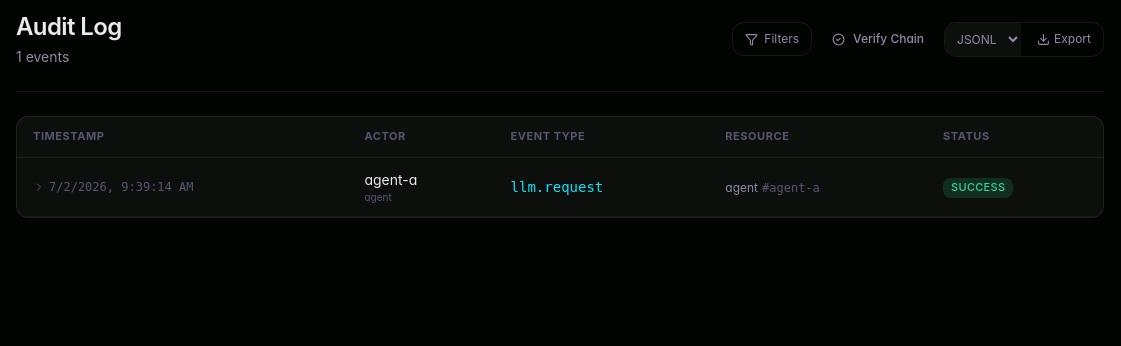
Test: AuditPage — streaming export › expands event row to show payload JSON
The width and height of the screenshot is (1121, 346).
Click the text "llm.request" at {"x": 557, "y": 187}, box [511, 179, 603, 195]
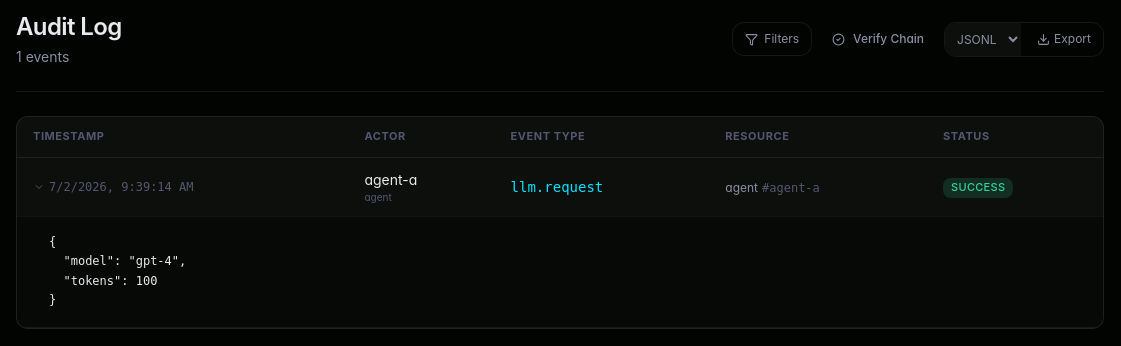
Check: the text "{ \"model\": \"gpt-4\", \"tokens\": 100 }" is shown, box [49, 235, 186, 308]
